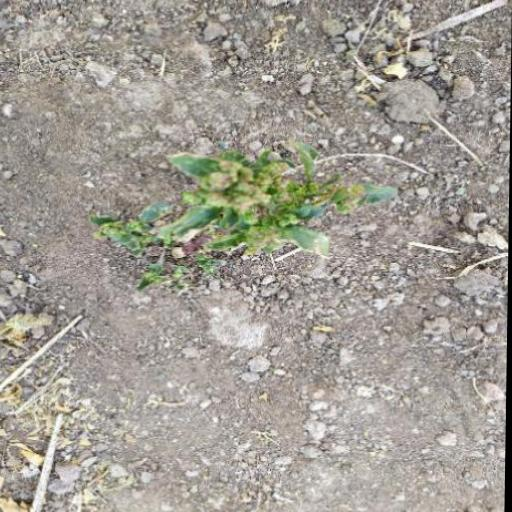weed: (87, 138, 354, 323)
